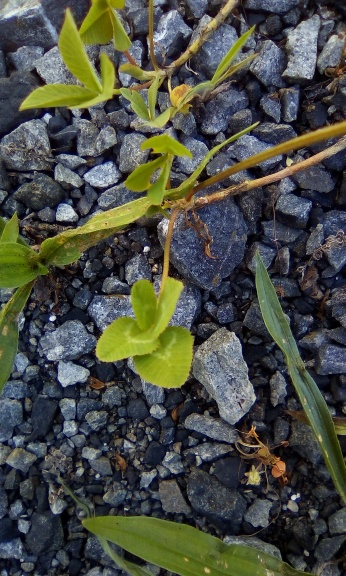4leaf: (95, 277, 193, 389)
